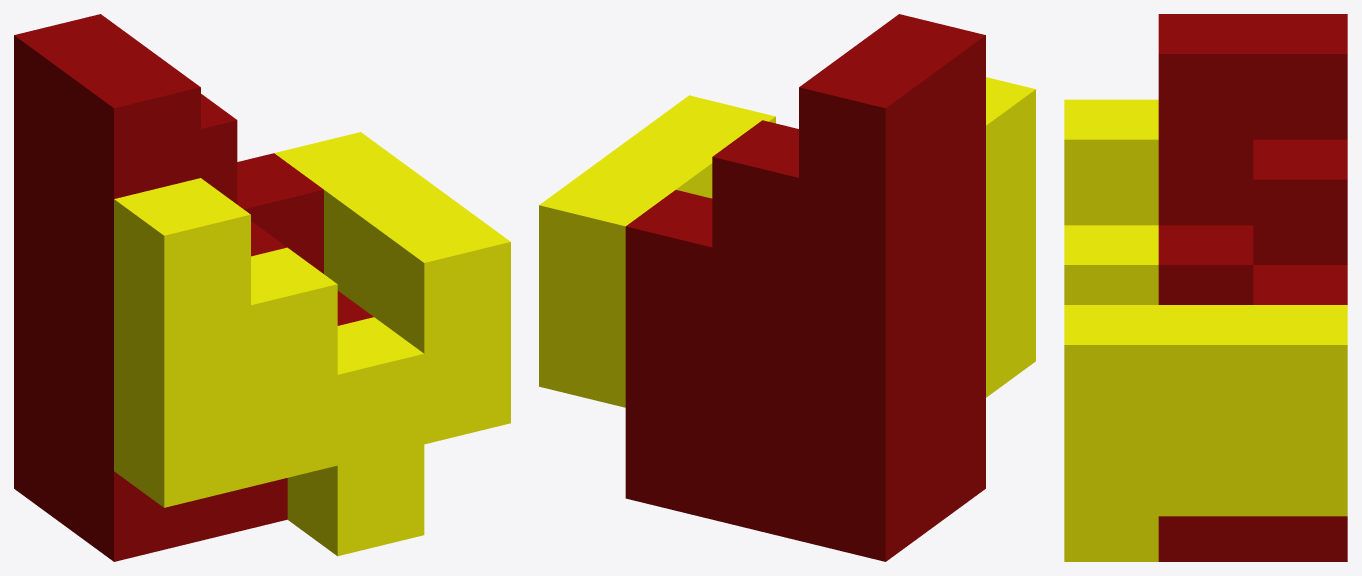
Rendered from Man_B.obj.
3 views of the same model, side by side, from view 1: azimuth 30°, elevation 25°; view 2: azimuth 150°, elevation 25°; view 3: azimuth 270°, elevation 25° (orthographic). The views are drawn at different scales.
Size of the model in its own units: 0.4 by 0.5 by 0.3.
Materials: 1 (1 with a texture image).
